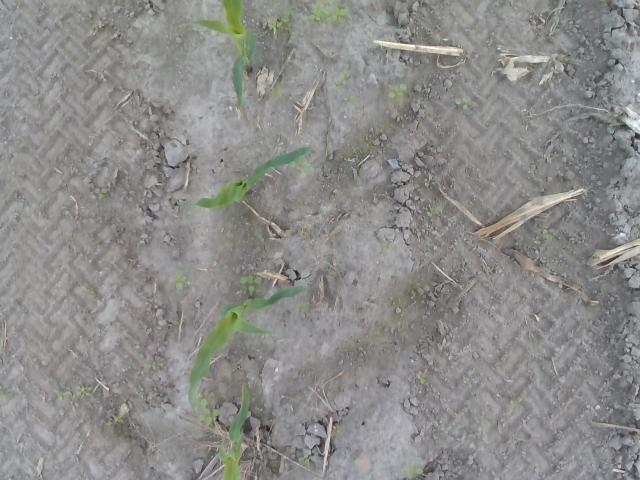Maize: (188, 283, 308, 419), (171, 146, 314, 215), (174, 1, 260, 111), (217, 384, 251, 477)
Weeds: (190, 388, 222, 428), (308, 0, 349, 27), (56, 384, 92, 400), (404, 458, 426, 478), (266, 13, 292, 29), (388, 85, 408, 105), (238, 277, 260, 294), (168, 272, 186, 292), (334, 70, 351, 90), (536, 228, 554, 244), (107, 415, 124, 429), (506, 392, 521, 406), (427, 204, 442, 218), (292, 301, 309, 313), (78, 286, 95, 298), (344, 91, 358, 105), (456, 98, 472, 110), (416, 370, 428, 384), (424, 174, 436, 188), (379, 241, 394, 252), (146, 158, 160, 169), (94, 19, 105, 33), (269, 86, 283, 96), (146, 362, 162, 370), (92, 191, 106, 200), (0, 384, 7, 401), (300, 456, 314, 464), (332, 426, 340, 436), (462, 376, 468, 384)
